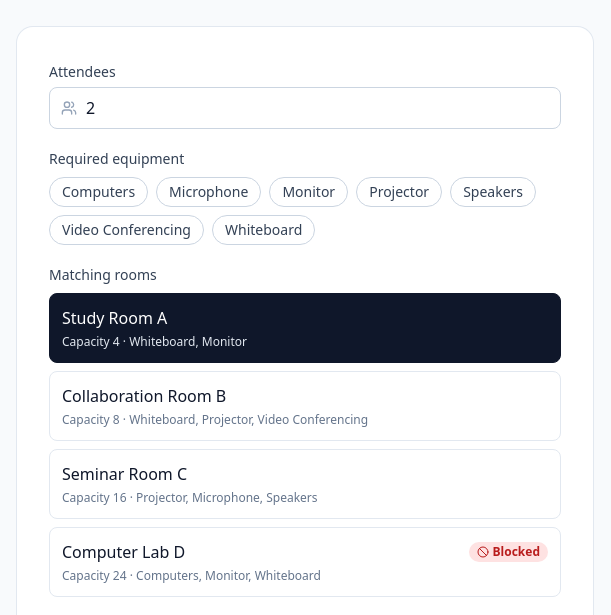
Scenario: Explain availability (mock adapter UI) › shows the safe fallback when the adapter rejects without changing confirmed status
The image size is (611, 615).
Click the button "Computer Lab D". click: (124, 552)
box: [49,527,561,597]
(page scrolled)
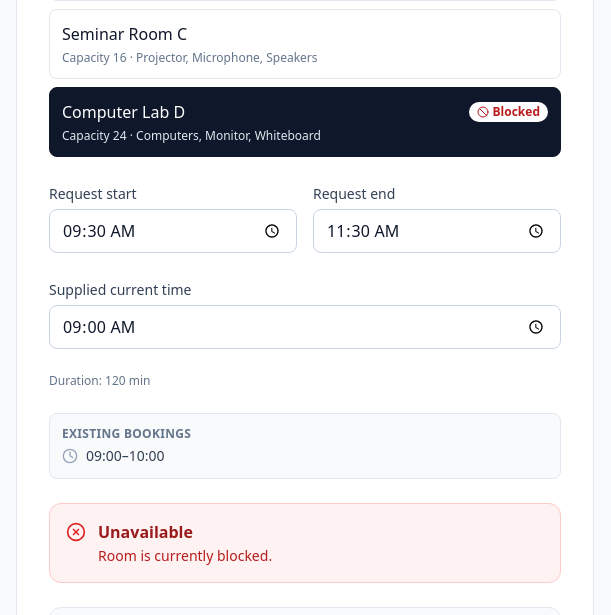
Replace the text in the time field labelled "Request start" with "10:30". click: (173, 231)
box: [49,209,297,253]
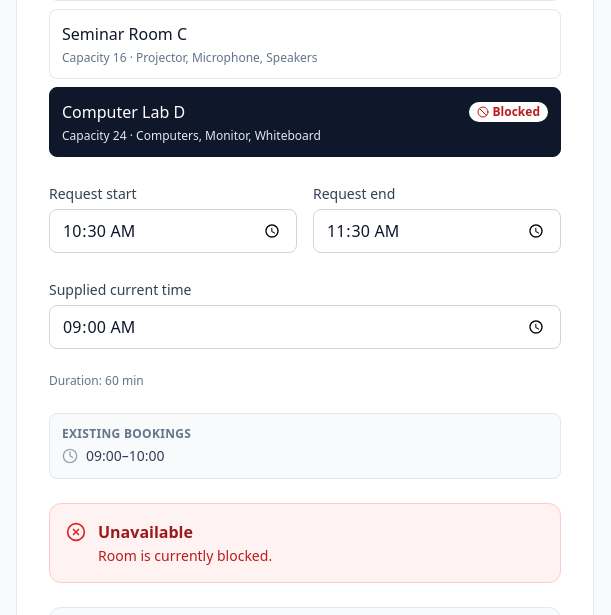
Replace the text in the time field labelled "Request end" with "11:00". click: (437, 231)
box: [313,209,561,253]
(page scrolled)
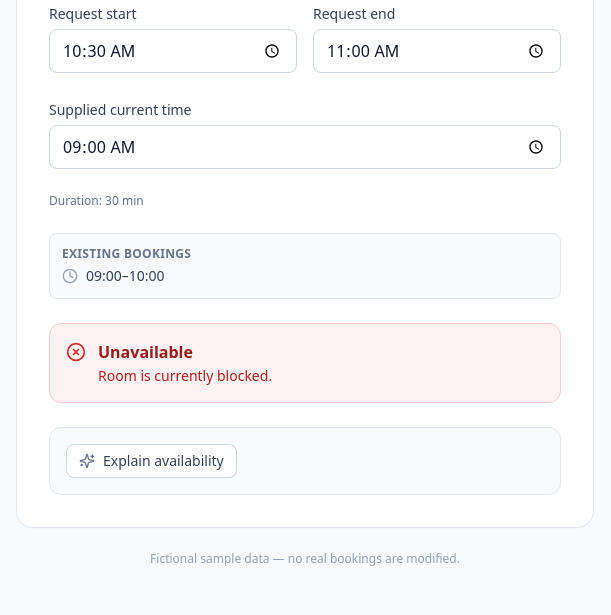
Expected: the text "Unavailable" is shown, [98,341,193,363]
Expected: the text "Room is currently blocked." is shown, [98,366,272,386]
Click the button "Explain availability". click: (151, 461)
box: [66,444,237,478]
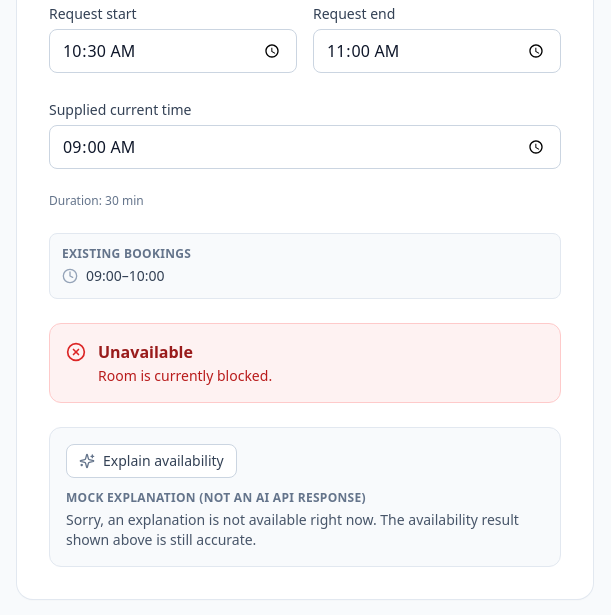
Expected: the text "Room is currently blocked." is shown, [98,366,272,386]
Expected: the text "Sorry, an explanation is not available right now. The availability result shown above is still accurate." is shown, [66,510,519,549]
Expected: the text "Mock explanation (not an AI API response)" is shown, [66,489,366,506]
